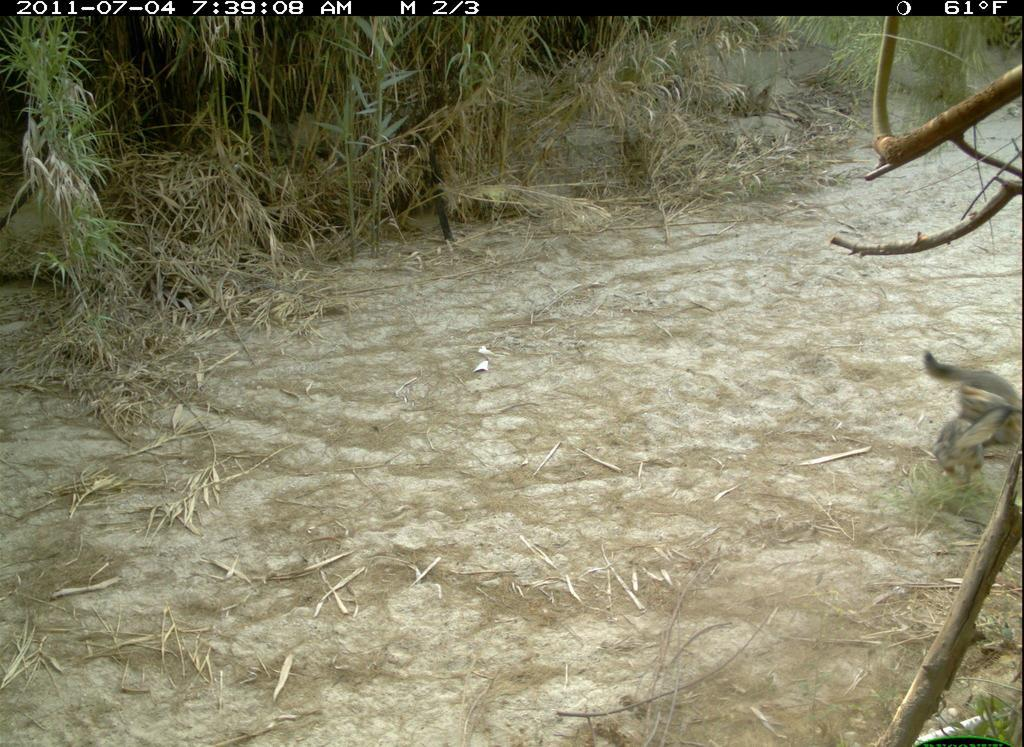coyote: (916, 345, 1021, 487)
